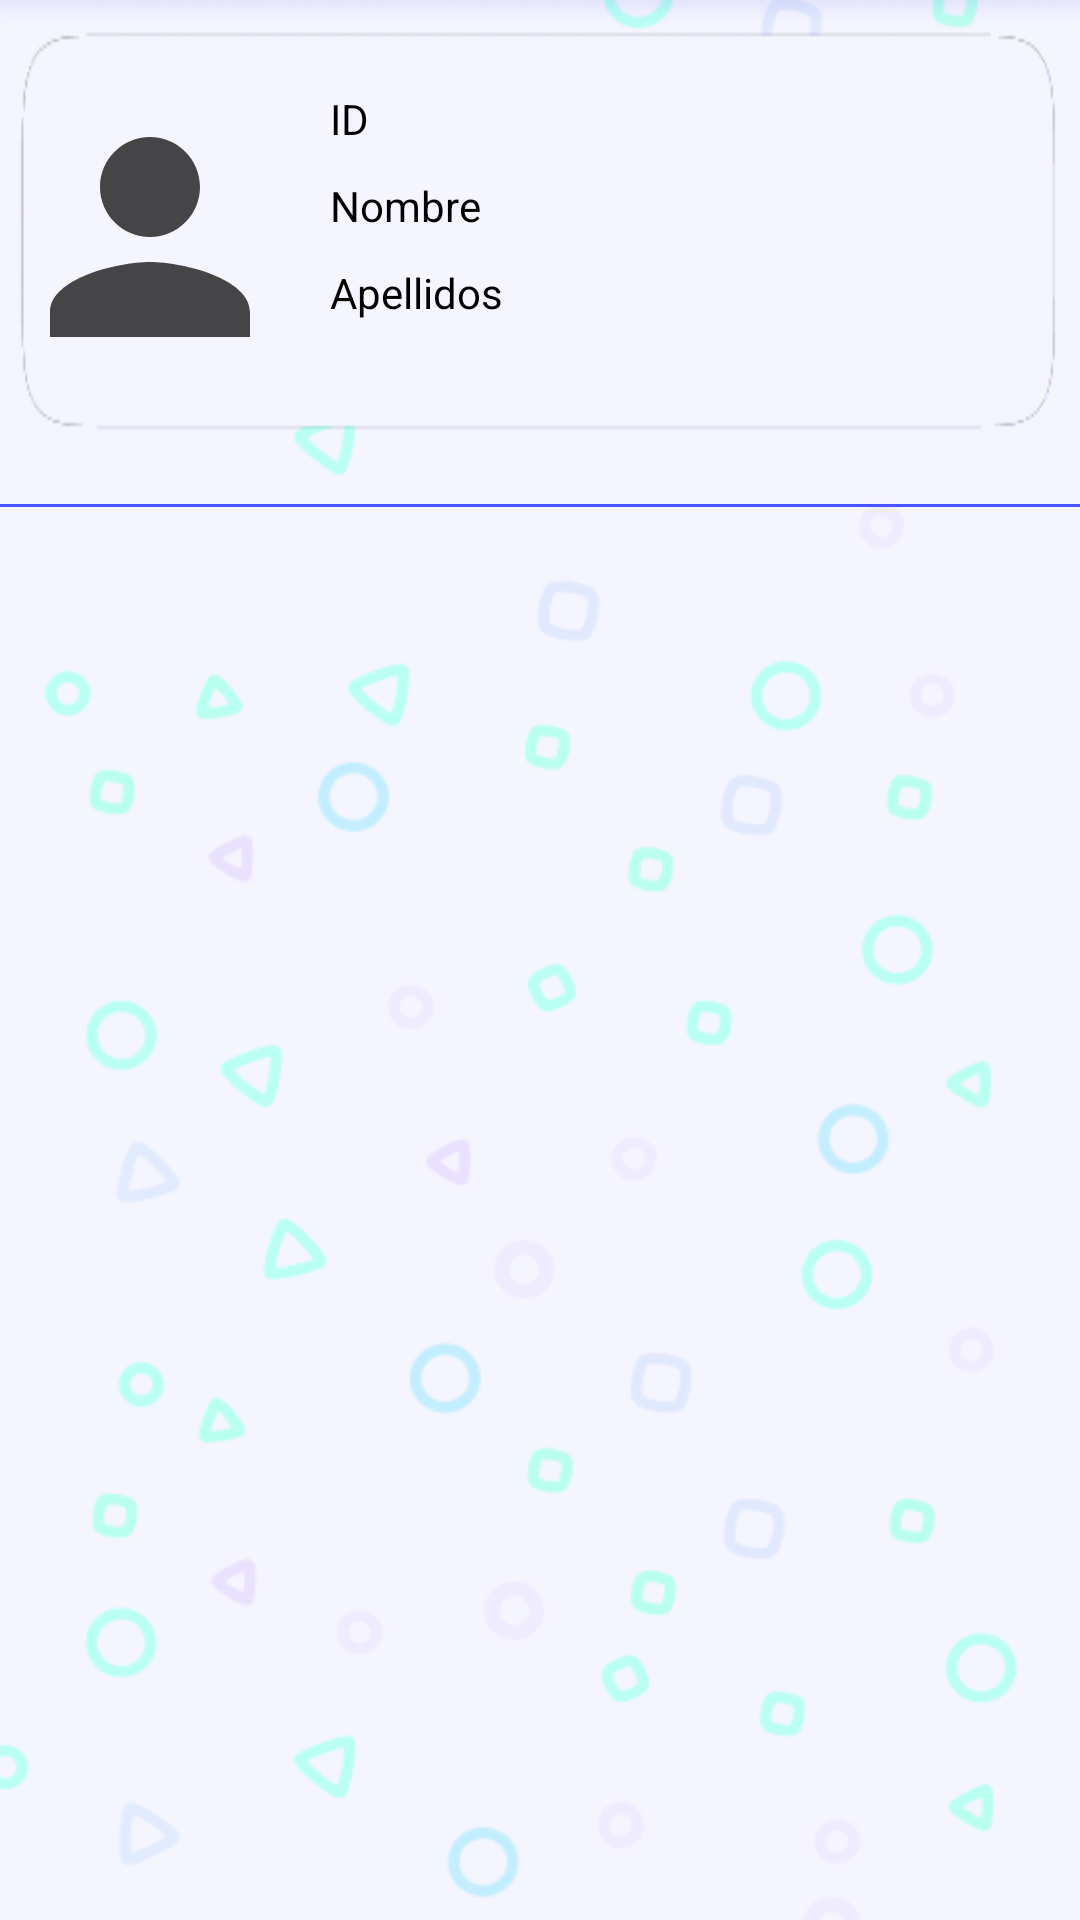

Locate icon controls on the screen. Image size 1080px x 1920px, boxes as (x1, y1, x2, y2).
alumno: (21, 91, 250, 387)
